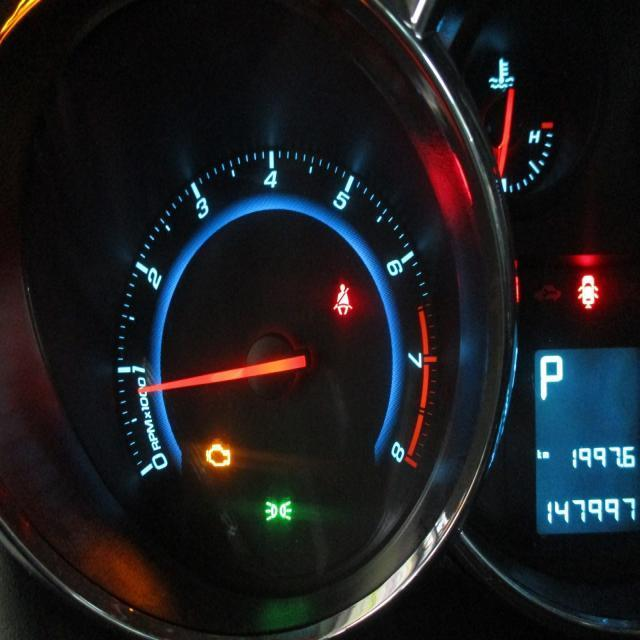Doors: (576, 274, 599, 310)
SideLamp: (263, 498, 291, 522)
